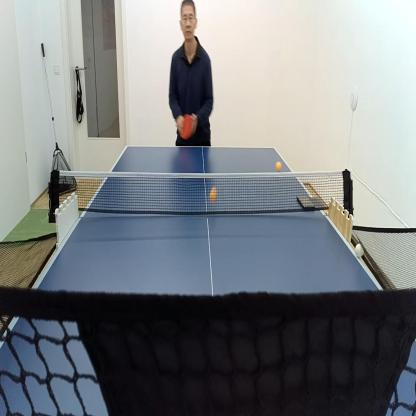Ball: (209, 185, 218, 203), (354, 242, 364, 258), (275, 160, 282, 172)
